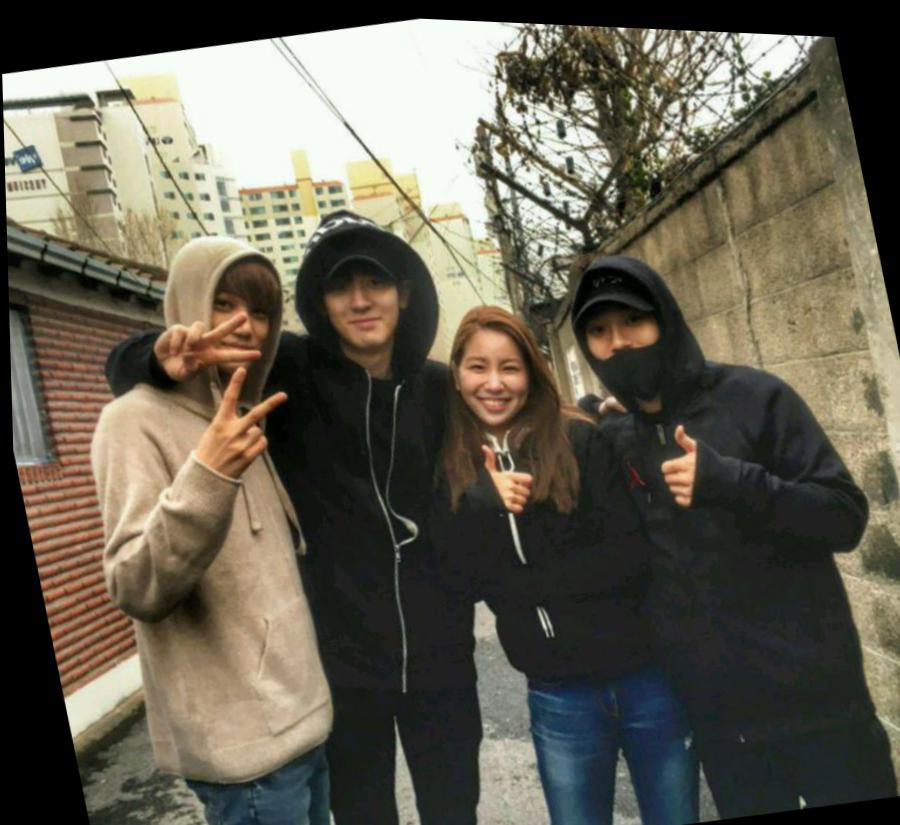NONE: (323, 258, 403, 348), (456, 335, 535, 423), (202, 285, 279, 372)
WRONG: (577, 289, 681, 394)
